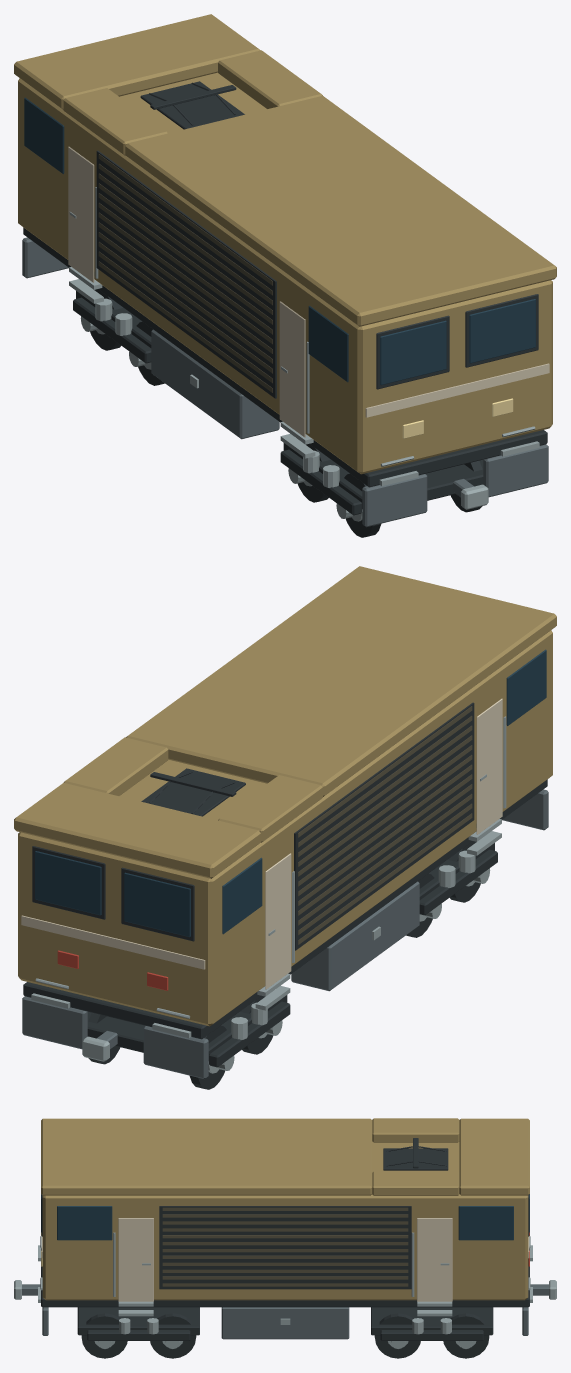
Rendered from train-loco-freight-01-v3.glb.
The picture shows the model from 3 angles, top to bottom: view 1: azimuth 30°, elevation 25°; view 2: azimuth 150°, elevation 25°; view 3: azimuth 270°, elevation 25°; orthographic projection. The views are drawn at different scales.
Visible parts, largest first — view 1: RoofForward, ContinuousBoxBody, LargeMachineLouvrePanel, RoofRear, HeavyElectricalCabinet, DarkUnderframe, RoofRecessRim, RoofRecessRim.001, FrontWindscreen, FrontWindscreen.001, CabAccessDoor, CabAccessDoor.001 (+24 smaller); view 2: RoofForward, ContinuousBoxBody, LargeMachineLouvrePanel, RoofRear, HeavyElectricalCabinet, DarkUnderframe, RoofRecessRim, RoofRecessRim.001, RearWindscreen, RearWindscreen.001, CabAccessDoor.001, CabAccessDoor (+24 smaller); view 3: RoofForward, ContinuousBoxBody, LargeMachineLouvrePanel.001, RoofRear, HeavyElectricalCabinet.001, DarkUnderframe, CabAccessDoor.003, CabAccessDoor.002, RoofRecessRim.001, RoofRecessRim, BogieBolster, BogieBolster.001 (+21 smaller).
Part boxes in pixels (x1,y1,x2,y2): RoofForward: (125,95,556,326); ContinuousBoxBody: (18,72,552,474); LargeMachineLouvrePanel: (96,150,276,398); RoofRear: (14,14,260,109); HeavyElectricalCabinet: (151,329,279,439); DarkUnderframe: (23,227,547,487); RoofRecessRim: (63,88,167,155); RoofRecessRim.001: (218,50,322,108); FrontWindscreen: (380,320,446,385); FrontWindscreen.001: (469,299,535,363); CabAccessDoor: (279,301,305,437); CabAccessDoor.001: (68,146,94,282); RoofForward: (126,566,556,796); ContinuousBoxBody: (18,630,552,1026); LargeMachineLouvrePanel: (294,702,474,950); RoofRear: (14,783,260,878); HeavyElectricalCabinet: (291,881,419,991); DarkUnderframe: (23,779,547,1039); RoofRecessRim: (218,775,322,842); RoofRecessRim.001: (63,737,168,795); RearWindscreen: (124,872,190,937); RearWindscreen.001: (35,851,101,915); CabAccessDoor.001: (265,853,291,989); CabAccessDoor: (476,698,502,834); RoofForward: (41,1118,372,1195); ContinuousBoxBody: (42,1141,528,1300); LargeMachineLouvrePanel.001: (159,1206,411,1289); RoofRear: (459,1118,529,1195); HeavyElectricalCabinet.001: (221,1307,349,1339); DarkUnderframe: (41,1248,529,1307); CabAccessDoor.003: (417,1218,452,1301); CabAccessDoor.002: (118,1218,153,1301); RoofRecessRim.001: (372,1171,459,1195); RoofRecessRim: (372,1118,459,1142); BogieBolster: (77,1307,199,1335); BogieBolster.001: (371,1307,493,1335).
Bounding box in the file's own units: 3 × 3.8 × 10.
